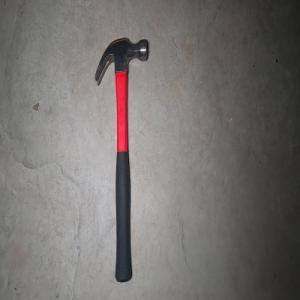Hammer: (94, 36, 147, 282)
